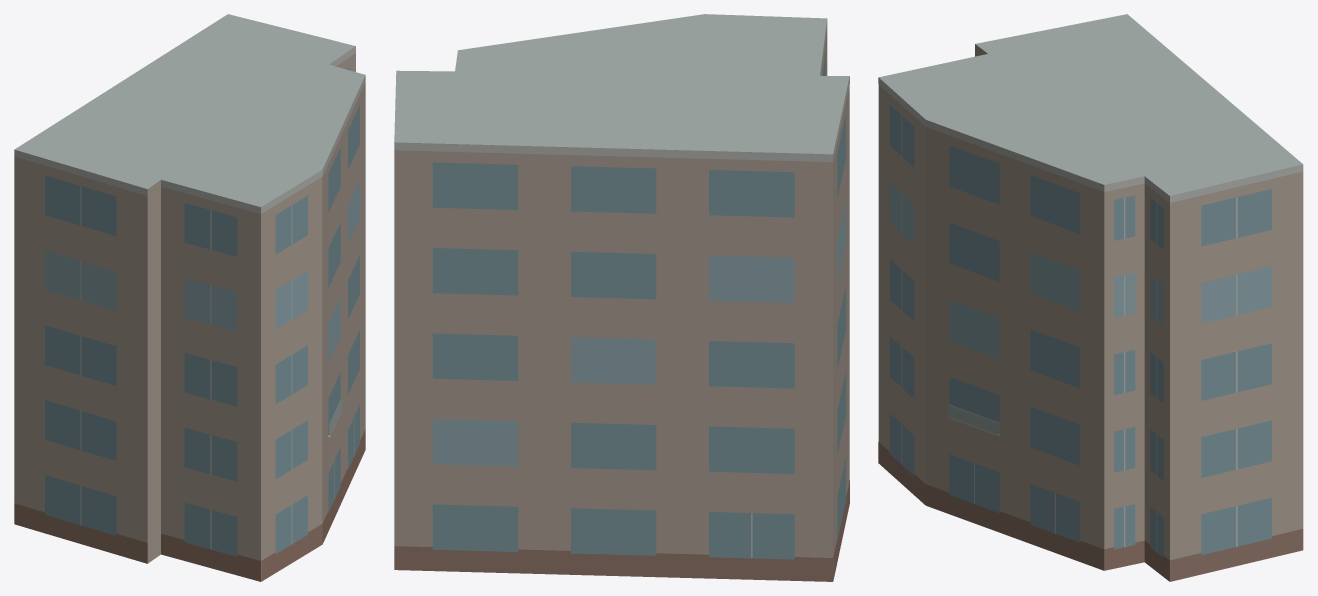
File: survey-upis-32997119.glb
3 renders of one model, left to right at view 1: azimuth 30°, elevation 25°; view 2: azimuth 150°, elevation 25°; view 3: azimuth 270°, elevation 25°, orthographic. The views are drawn at different scales.
Visible parts, largest first — view 1: survey-upis-32997119.tmp; view 2: survey-upis-32997119.tmp; view 3: survey-upis-32997119.tmp.
Boxes of the visible parts, left/top/right/bottom form: survey-upis-32997119.tmp: left=14, top=14, right=365, bottom=581; survey-upis-32997119.tmp: left=394, top=14, right=849, bottom=581; survey-upis-32997119.tmp: left=878, top=14, right=1303, bottom=581.
Size of the model in its own units: 13.57 by 13.4 by 13.38.
